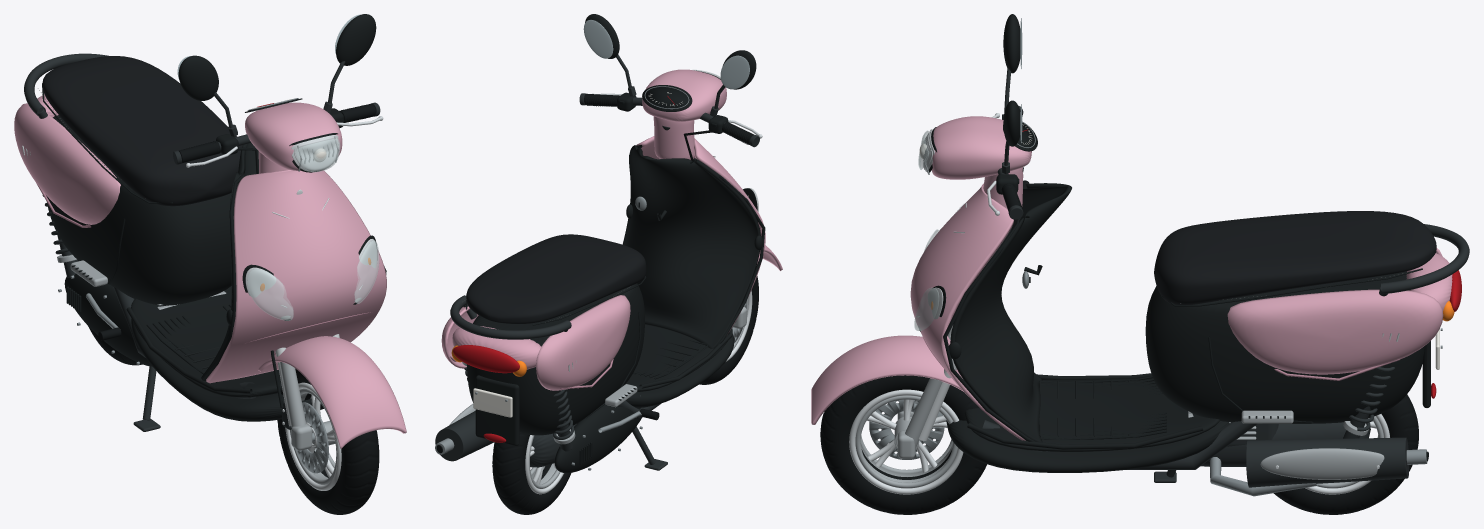
Rendered from pink_scooter.glb.
3 views of the same model, side by side, from view 1: azimuth 30°, elevation 25°; view 2: azimuth 150°, elevation 25°; view 3: azimuth 270°, elevation 25° (orthographic). The views are drawn at different scales.
Parts seen in each view (by area): view 1: Front body | pearl legshield, Seat | tailored two level black vinyl, Body | underseat bucket, Front fender | curved lacquer shell, Rear body | rose side fairing -1, Floorboard | molded deck, FRONT | directional tread tire, Handlebar | pearl lamp housing, Body | lower belly pan, Engine | left CVT cover, Turn signal | clear faceted cover, Mirror | aerodynamic housing.001 (+18 smaller); view 2: Front body | enclosed inner legshield, Seat | tailored two level black vinyl, Body | underseat bucket, Rear body | rose side fairing -1, REAR | directional tread tire, Floorboard | molded deck, Engine | left CVT cover, Handlebar | pearl lamp housing, Rear | plate and mudflap, Body | lower belly pan, Front body | steering neck fairing, Tail | painted end cap (+18 smaller); view 3: Seat | tailored two level black vinyl, Body | underseat bucket, Rear body | rose side fairing 1, Front body | enclosed inner legshield, Floorboard | molded deck, Front body | pearl legshield, FRONT | directional tread tire, Body | lower belly pan, Front fender | curved lacquer shell, Handlebar | pearl lamp housing, Exhaust | black muffler, REAR | directional tread tire (+14 smaller).
Boxes of the visible parts, x1,y1,x2,y2 form: Front body | pearl legshield: (206, 170, 386, 383); Seat | tailored two level black vinyl: (42, 56, 242, 206); Body | underseat bucket: (47, 115, 231, 305); Front fender | curved lacquer shell: (258, 336, 406, 448); Rear body | rose side fairing -1: (14, 103, 120, 224); Floorboard | molded deck: (131, 286, 282, 397); FRONT | directional tread tire: (277, 368, 379, 514); Handlebar | pearl lamp housing: (245, 102, 342, 170); Body | lower belly pan: (131, 318, 323, 421); Engine | left CVT cover: (64, 273, 152, 366); Turn signal | clear faceted cover: (247, 269, 293, 320); Mirror | aerodynamic housing.001: (336, 14, 376, 65); Front body | enclosed inner legshield: (622, 145, 760, 348); Seat | tailored two level black vinyl: (466, 234, 646, 323); Body | underseat bucket: (467, 283, 644, 435); Rear body | rose side fairing -1: (536, 295, 630, 390); REAR | directional tread tire: (492, 432, 571, 514); Floorboard | molded deck: (625, 325, 728, 391); Engine | left CVT cover: (554, 401, 641, 473); Handlebar | pearl lamp housing: (642, 69, 726, 121); Rear | plate and mudflap: (475, 375, 519, 446); Body | lower belly pan: (626, 334, 734, 407); Front body | steering neck fairing: (653, 116, 694, 159); Tail | painted end cap: (452, 326, 541, 369); Seat | tailored two level black vinyl: (1154, 211, 1436, 304); Body | underseat bucket: (1145, 271, 1424, 423); Rear body | rose side fairing 1: (1227, 289, 1443, 374); Front body | enclosed inner legshield: (950, 180, 1071, 442); Floorboard | molded deck: (964, 378, 1219, 451); Front body | pearl legshield: (910, 183, 1025, 440); FRONT | directional tread tire: (820, 375, 986, 514); Body | lower belly pan: (946, 420, 1229, 472); Front fender | curved lacquer shell: (811, 335, 963, 424); Handlebar | pearl lamp housing: (931, 116, 1031, 179); Exhaust | black muffler: (1246, 437, 1409, 487); REAR | directional tread tire: (1273, 394, 1418, 514).
Size of the model in its own units: 0.7528 by 1.54 by 2.03.
